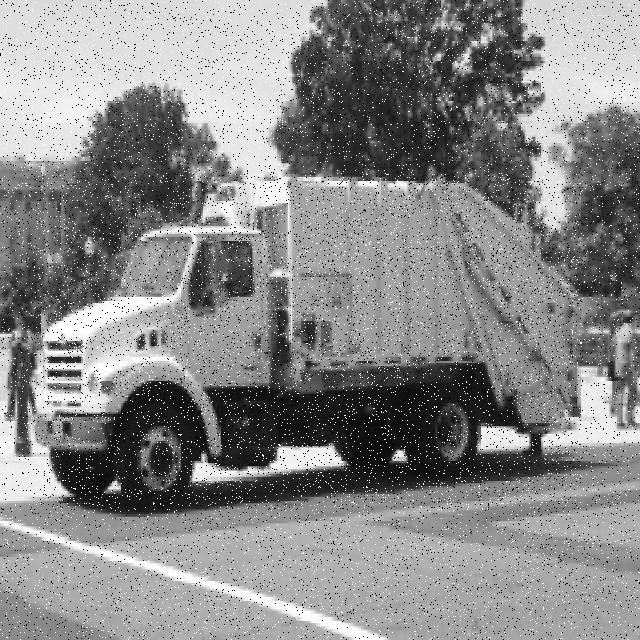Garbage Truck: (33, 174, 581, 509)
